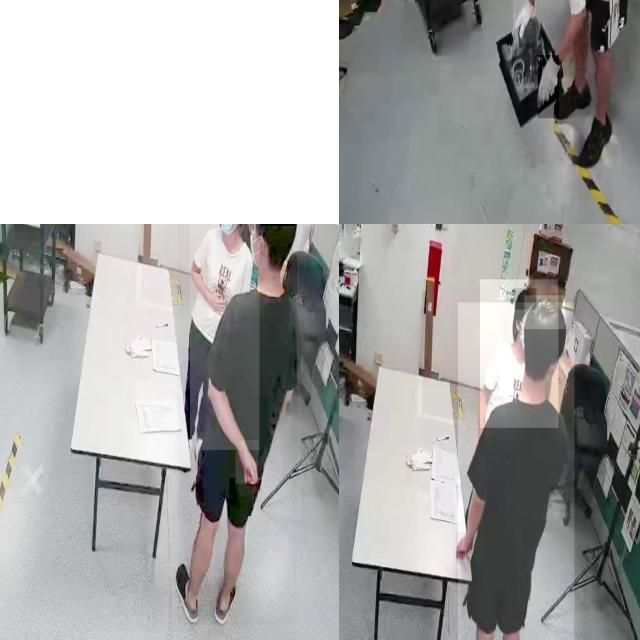face_mask: (217, 224, 234, 244)
hand_glove: (538, 55, 560, 119), (513, 0, 537, 43)
hand_noglove: (235, 440, 259, 485), (455, 532, 473, 560), (207, 290, 226, 316)
head_nohelmet: (524, 295, 566, 330), (515, 288, 537, 310)
person: (177, 224, 297, 625), (458, 302, 575, 640), (475, 0, 640, 167), (190, 224, 259, 450), (480, 279, 558, 428)
shoes: (577, 102, 615, 174), (552, 73, 593, 123), (174, 558, 203, 628), (211, 567, 237, 627)
